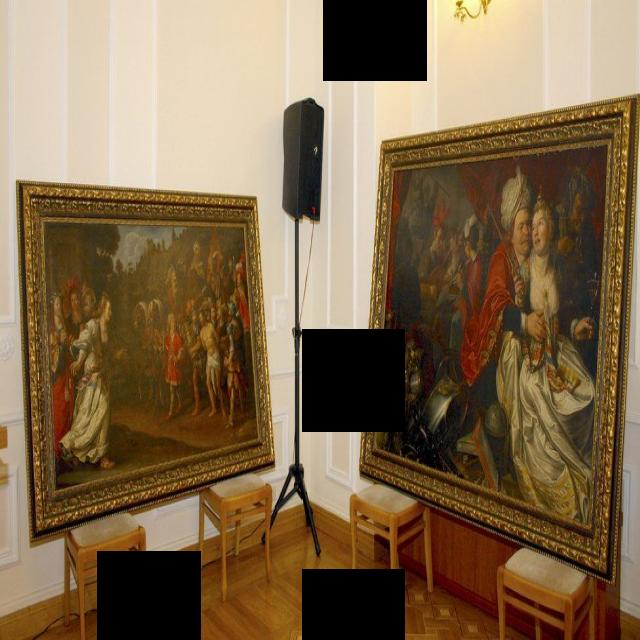Tablo: (373, 142, 609, 528), (42, 218, 259, 494)
